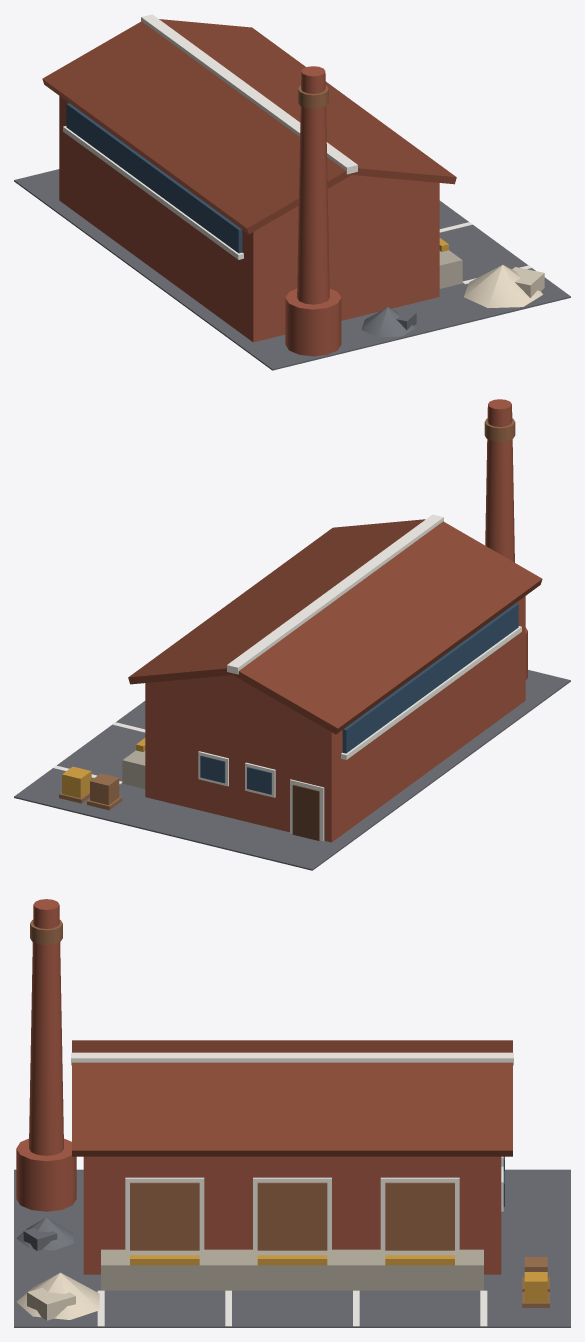
3 renders of one model, top to bottom at view 1: azimuth 30°, elevation 25°; view 2: azimuth 150°, elevation 25°; view 3: azimuth 270°, elevation 25°, orthographic. The views are drawn at different scales.
Visible parts, largest first — view 1: roof (×2), hall, yard, smoke_stack, window_band, heap (×3), stack_base, ridge, gable, sill, dock, stack_band; view 2: roof (×2), hall, yard, window_band, smoke_stack, ridge, gable, crate (×2), door, sill, dock, door_frame (+1 smaller); view 3: roof (×2), yard, hall, garage_door (×3), dock, smoke_stack, ridge, stack_base, garage_door_frame (×3), heap (×3), bumper (×3), crate (+1 smaller).
Part boxes in pixels (<box>): roof (×2): <box>42,19,456,234</box>; hall: <box>59,96,439,342</box>; yard: <box>14,169,570,370</box>; smoke_stack: <box>297,66,329,304</box>; window_band: <box>66,103,242,253</box>; heap (×3): <box>361,265,544,337</box>; stack_base: <box>285,288,341,356</box>; ridge: <box>141,14,357,174</box>; gable: <box>274,175,429,219</box>; sill: <box>63,126,243,259</box>; dock: <box>439,250,462,288</box>; stack_band: <box>298,85,328,108</box>; roof (×2): <box>128,519,542,734</box>; hall: <box>145,596,525,842</box>; yard: <box>14,670,570,870</box>; window_band: <box>342,603,518,753</box>; smoke_stack: <box>485,399,514,562</box>; ridge: <box>227,514,443,674</box>; gable: <box>155,675,310,720</box>; crate (×2): <box>62,766,119,805</box>; door: <box>292,784,319,840</box>; sill: <box>341,626,521,759</box>; dock: <box>122,750,145,788</box>; door_frame: <box>290,779,324,841</box>; roof (×2): <box>72,1040,512,1156</box>; yard: <box>14,1169,570,1327</box>; hall: <box>83,1156,501,1274</box>; garage_door (×3): <box>130,1182,454,1250</box>; dock: <box>101,1249,483,1290</box>; smoke_stack: <box>29,899,63,1155</box>; ridge: <box>71,1052,513,1065</box>; stack_base: <box>16,1138,76,1211</box>; garage_door_frame (×3): <box>125,1177,459,1249</box>; heap (×3): <box>16,1217,99,1320</box>; bumper (×3): <box>130,1255,454,1265</box>; crate: <box>524,1272,547,1302</box>.
Size of the model in its own units: 16 by 14.07 by 24.
